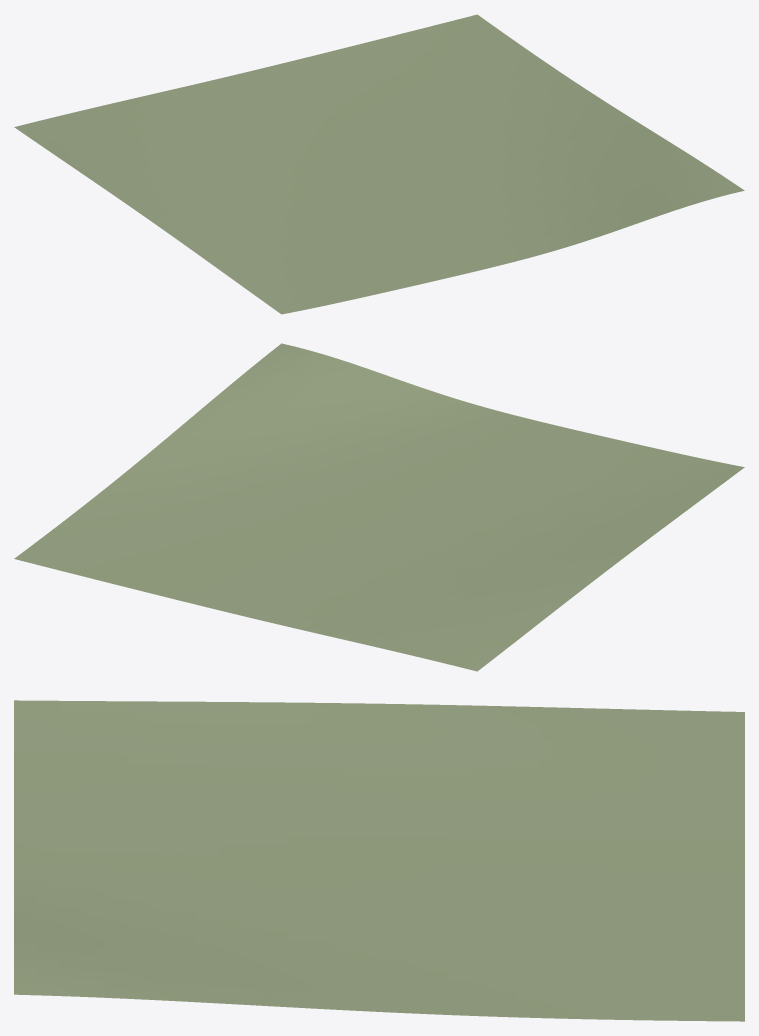
File: desert-5-1.glb
3 renders of one model, top to bottom at view 1: azimuth 30°, elevation 25°; view 2: azimuth 150°, elevation 25°; view 3: azimuth 270°, elevation 25°, orthographic. The views are drawn at different scales.
Visible parts, largest first — view 1: desert-5-1; view 2: desert-5-1; view 3: desert-5-1.
Boxes of the visible parts, box(x1,y1,x2,y2) form: desert-5-1: box(14, 14, 744, 314); desert-5-1: box(14, 343, 744, 671); desert-5-1: box(14, 700, 744, 1021).
Size of the model in its own units: 512 by 22.3 by 512.
